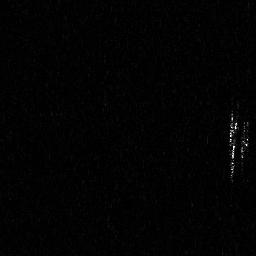ship: (226, 99, 251, 187)
